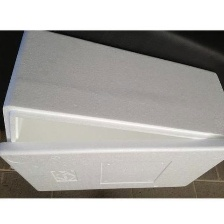foam_box: (0, 30, 224, 196)
